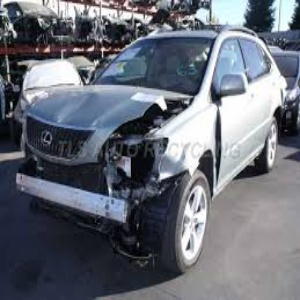bonnet: (71, 82, 176, 129)
bumper: (75, 166, 143, 253)
